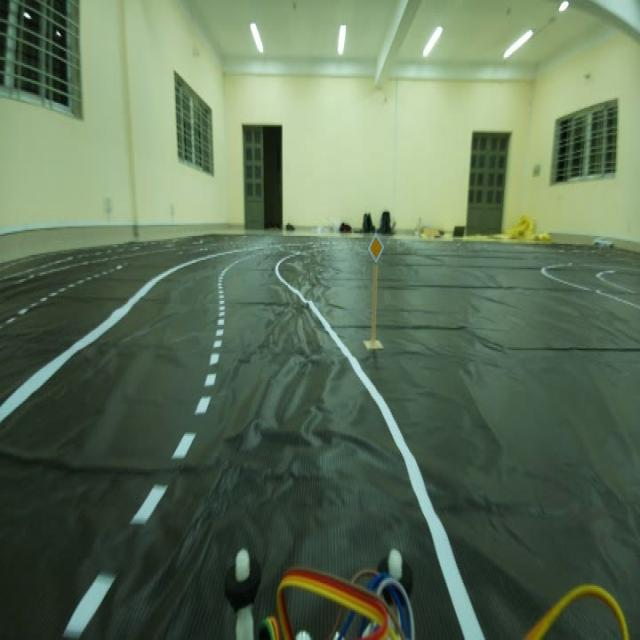priority: (365, 230, 387, 269)
